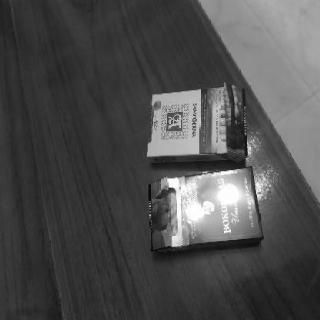objects: (148, 167, 264, 252), (147, 86, 248, 162)
